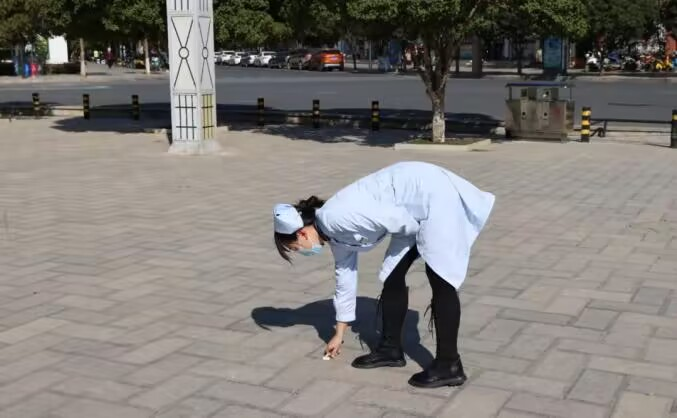bending: (263, 152, 497, 395)
